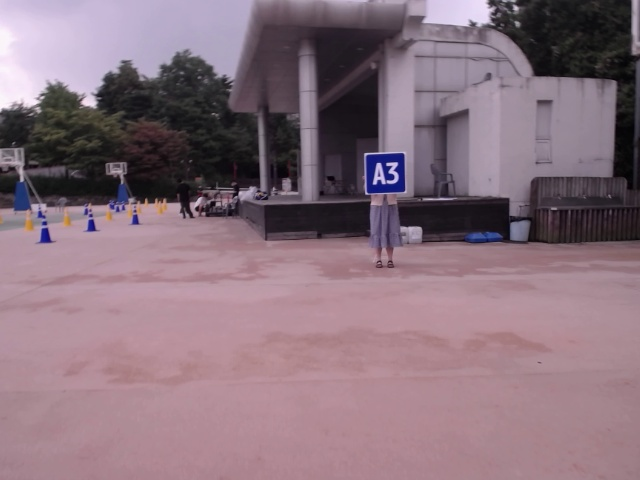delivery_a3: (364, 152, 407, 194)
